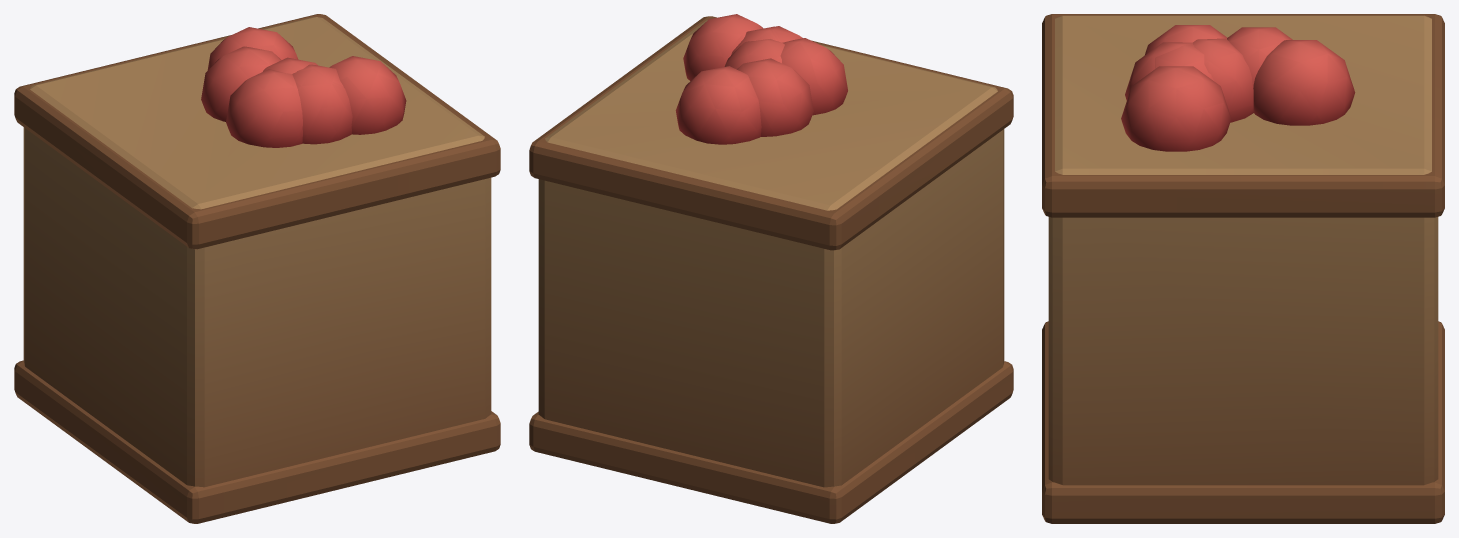
The model's file is crate.glb.
The picture shows the model from 3 angles, left to right: view 1: azimuth 30°, elevation 25°; view 2: azimuth 150°, elevation 25°; view 3: azimuth 270°, elevation 25°; orthographic projection. The views are drawn at different scales.
Parts seen in each view (by area): view 1: Crate; view 2: Crate; view 3: Crate.
Part boxes in pixels (left/top/right/bottom): Crate: left=14, top=14, right=500, bottom=523; Crate: left=529, top=14, right=1013, bottom=523; Crate: left=1042, top=14, right=1444, bottom=523.
Size of the model in its own units: 0.62 by 0.705 by 0.62.
